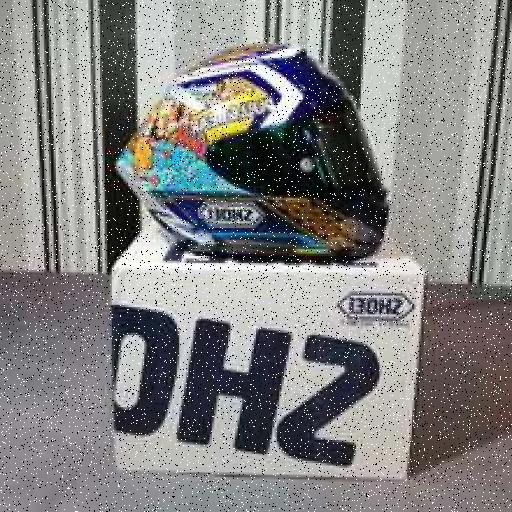Helmet: (107, 38, 391, 266)
